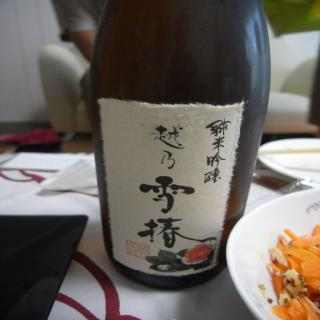Carrot: (256, 222, 320, 312)
